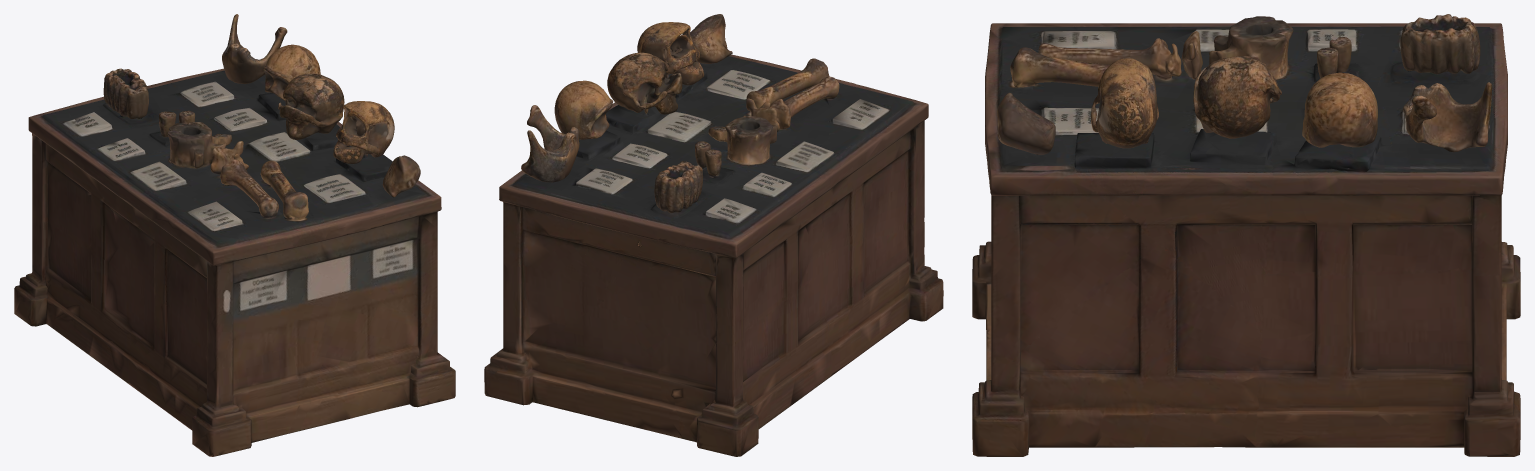
File: meja-fosil-sangiran.glb
3 renders of one model, left to right at view 1: azimuth 30°, elevation 25°; view 2: azimuth 150°, elevation 25°; view 3: azimuth 270°, elevation 25°, orthographic. The views are drawn at different scales.
Visible parts, largest first — view 1: tripo_node_332e83af-aaf1-45bc-9a66-b135d817d415; view 2: tripo_node_332e83af-aaf1-45bc-9a66-b135d817d415; view 3: tripo_node_332e83af-aaf1-45bc-9a66-b135d817d415.
Boxes of the visible parts, bbox=[...] form: tripo_node_332e83af-aaf1-45bc-9a66-b135d817d415: bbox=[14, 14, 455, 456]; tripo_node_332e83af-aaf1-45bc-9a66-b135d817d415: bbox=[484, 14, 943, 456]; tripo_node_332e83af-aaf1-45bc-9a66-b135d817d415: bbox=[972, 14, 1520, 456].
Size of the model in its own units: 0.7183 by 0.7338 by 0.9999.
Materials: 1 (1 with a texture image).
